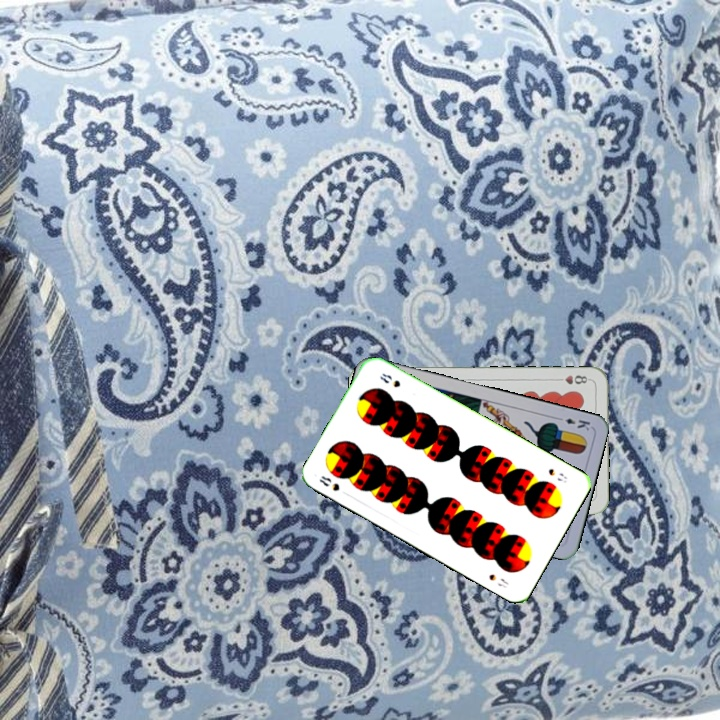EK: (553, 413, 593, 433)
H8: (552, 371, 592, 387)
S8: (315, 471, 342, 494), (544, 464, 569, 485)
